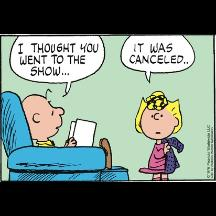charlie: (20, 88, 114, 170)
